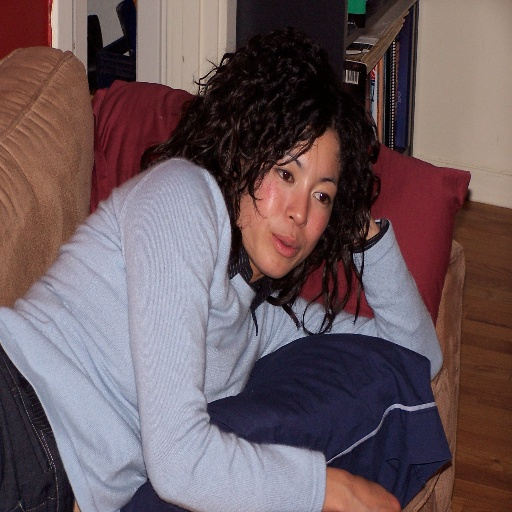hand: (320, 478, 404, 511)
